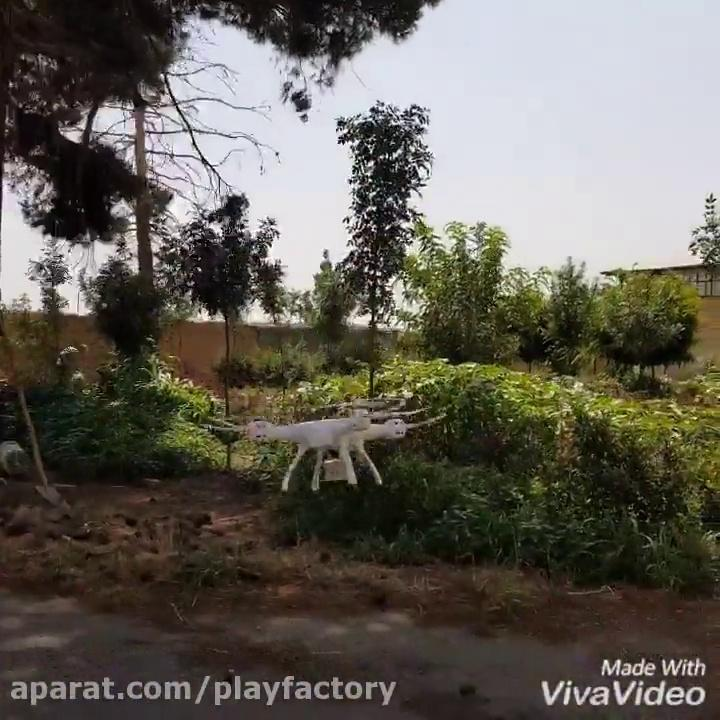drone: (196, 395, 451, 491)
